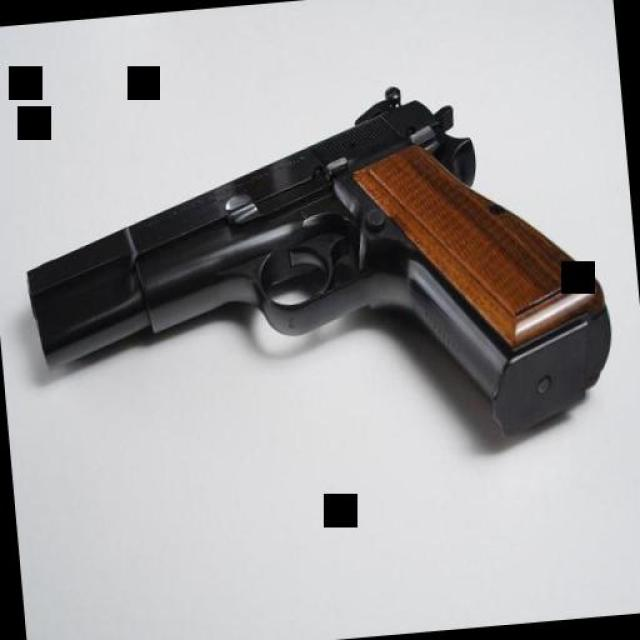gun: (10, 66, 624, 519)
